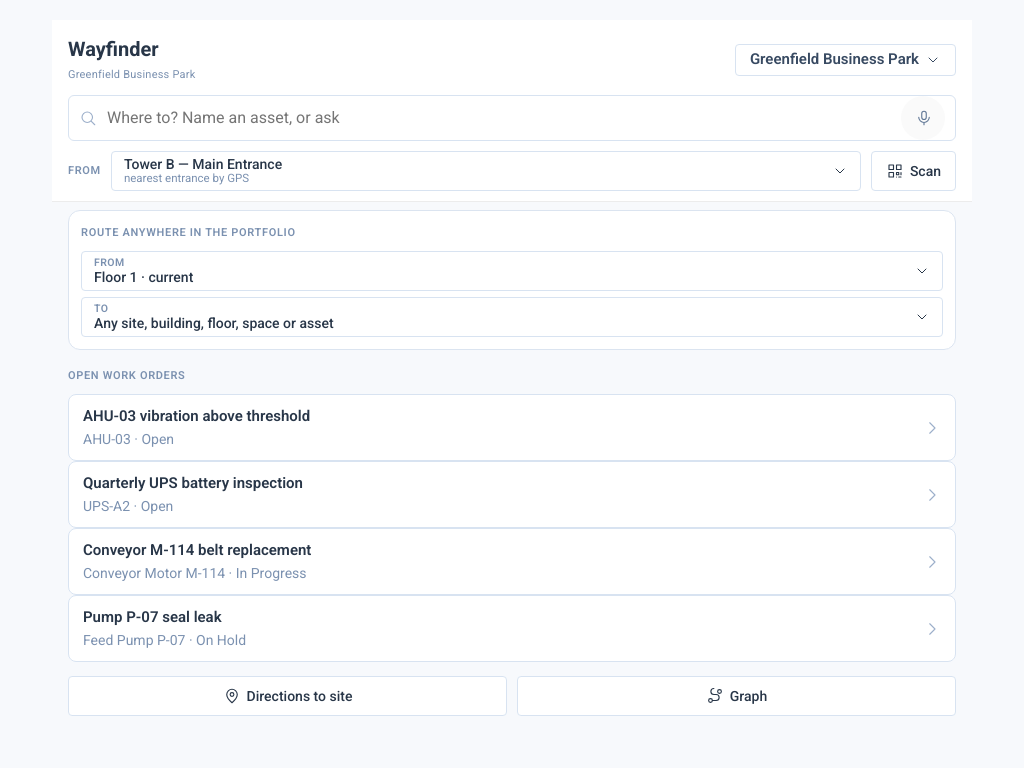
Test: facing indicator › re-phrases as the technician turns
Expected: the button "Quarterly UPS battery inspection UPS-A2 · Open" is shown, [68,461,956,528]
In the field named "Destination": point(499, 118) [105,107,893,129], type "Primary Pump"
Then press Enter
(page scrolled)
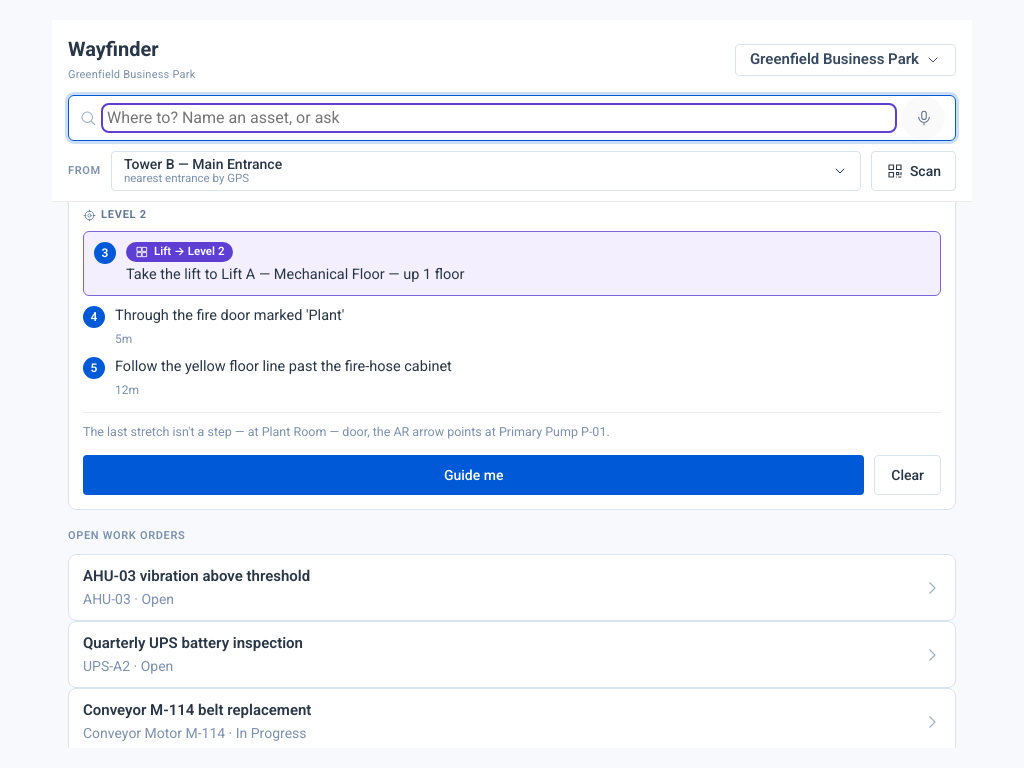
Click the button "Guide me": point(474, 475) [83,455,864,495]
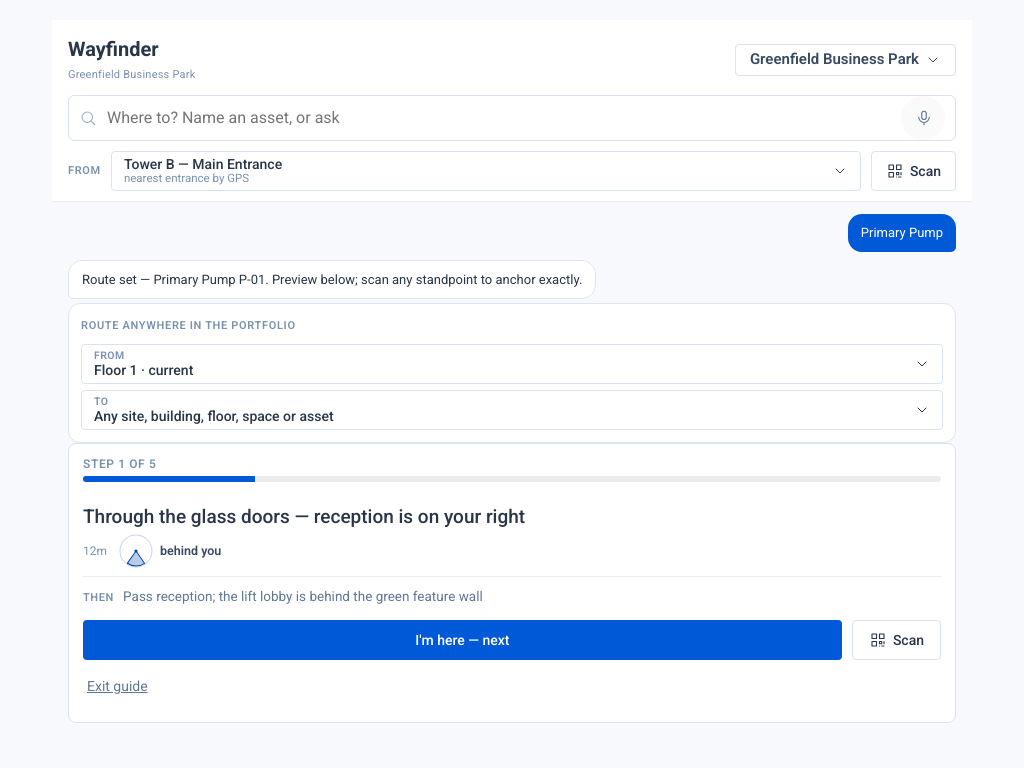
Expected: the text "Step 1 of 5" is shown, [83,457,156,471]
Expected: the picture named "Destination behind you" is shown, [119,534,153,568]
